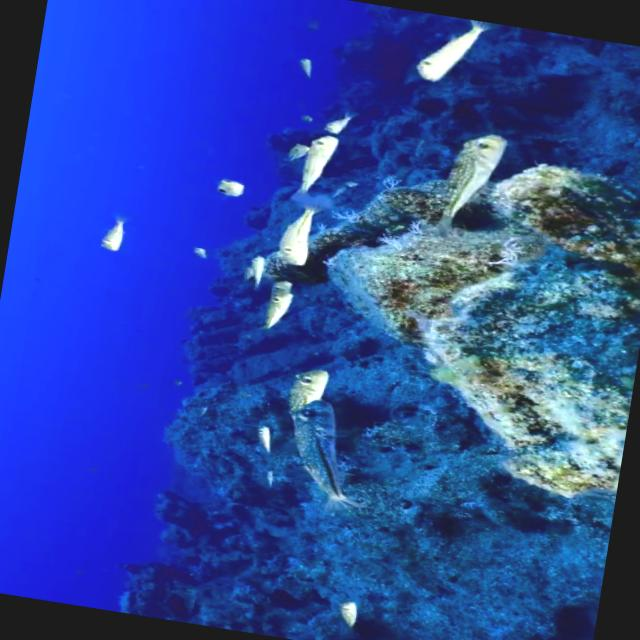Balon Baligi: (280, 398, 378, 514), (432, 124, 513, 236), (404, 17, 494, 92), (272, 206, 322, 272), (292, 132, 344, 194), (280, 358, 328, 422), (78, 214, 140, 256), (258, 284, 298, 335), (208, 168, 257, 208)
